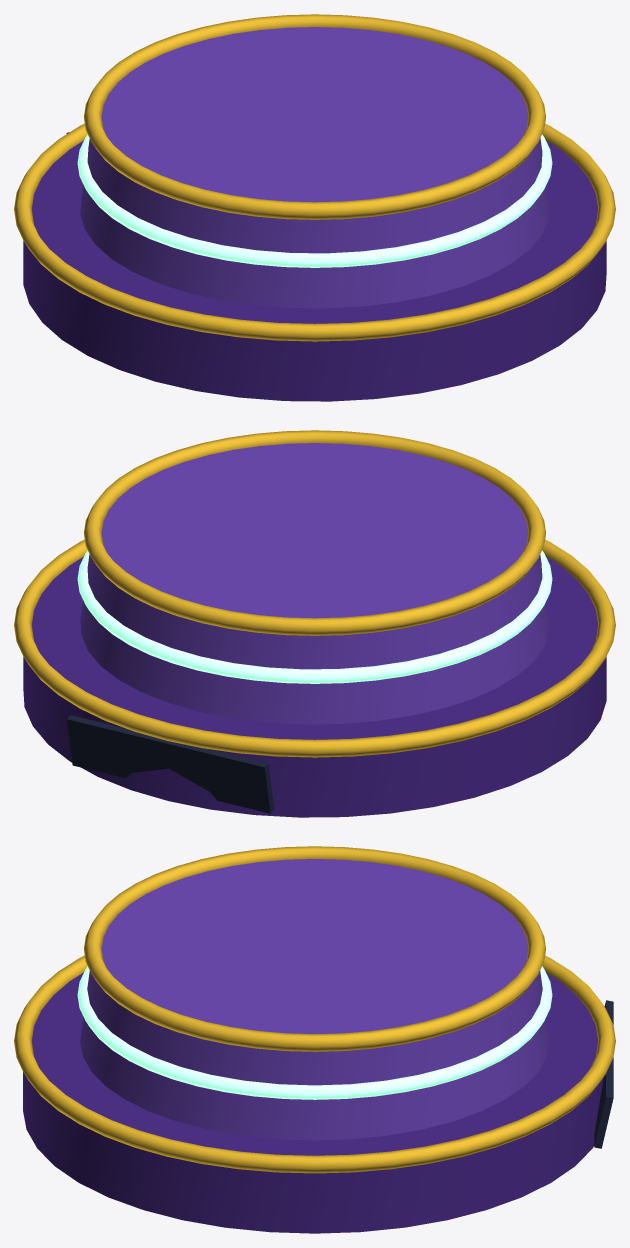
The model's file is Hub_OverlordPedestal.glb.
3 renders of one model, top to bottom at view 1: azimuth 30°, elevation 25°; view 2: azimuth 150°, elevation 25°; view 3: azimuth 270°, elevation 25°, orthographic.
Visible parts, largest first — view 1: PedestalTop, Pedestal, Trim, Glow; view 2: PedestalTop, Pedestal, Trim, Plaque, Glow; view 3: PedestalTop, Pedestal, Trim, Glow, Plaque.
Boxes of the visible parts, x1=… form: PedestalTop: x1=80, y1=27, x2=549, y2=308; Pedestal: x1=23, y1=140, x2=606, y2=401; Trim: x1=14, y1=14, x2=615, y2=341; Glow: x1=77, y1=134, x2=552, y2=267; PedestalTop: x1=80, y1=443, x2=549, y2=724; Pedestal: x1=23, y1=556, x2=606, y2=817; Trim: x1=14, y1=430, x2=615, y2=757; Plaque: x1=66, y1=715, x2=274, y2=813; Glow: x1=77, y1=550, x2=552, y2=683; PedestalTop: x1=80, y1=859, x2=549, y2=1140; Pedestal: x1=23, y1=972, x2=603, y2=1233; Trim: x1=14, y1=846, x2=615, y2=1173; Glow: x1=77, y1=966, x2=552, y2=1099; Plaque: x1=594, y1=1000, x2=613, y2=1148.
Bounding box in the file's own units: 9.48 × 2.92 × 9.48.
